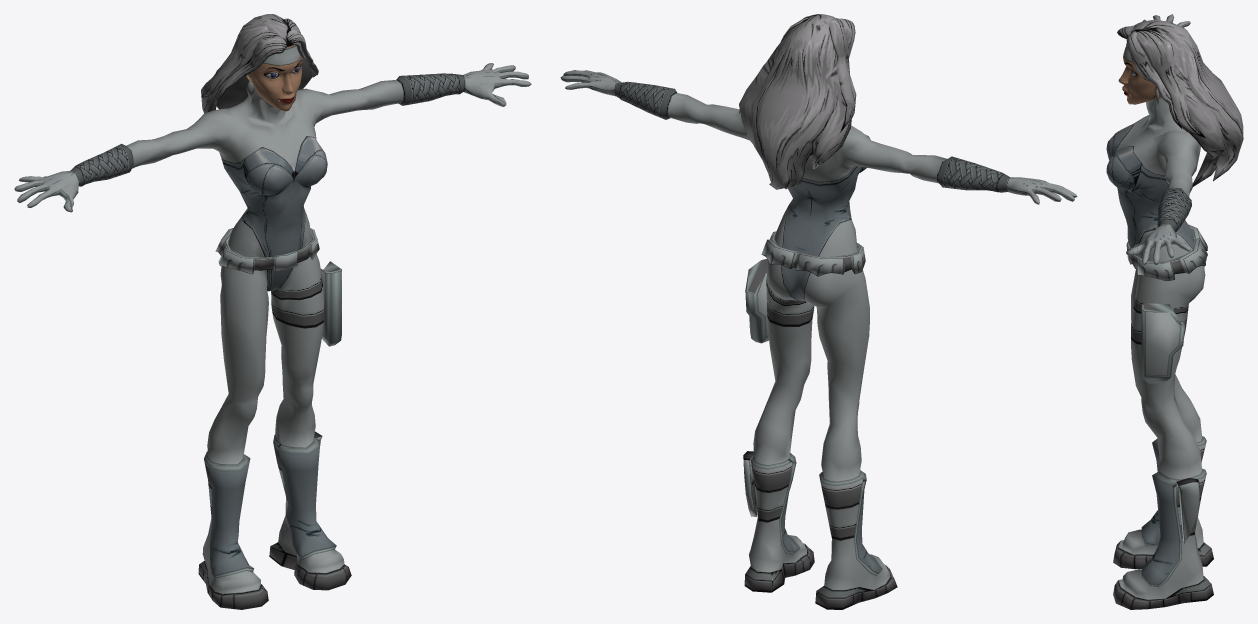
Rendered from Silver_Sable.fbx.
The picture shows the model from 3 angles, left to right: view 1: azimuth 30°, elevation 25°; view 2: azimuth 150°, elevation 25°; view 3: azimuth 270°, elevation 25°; orthographic projection.
Parts seen in each view (by area): view 1: Silver Sable; view 2: Silver Sable; view 3: Silver Sable.
Boxes of the visible parts, left/top/right/bottom form: Silver Sable: left=14, top=14, right=531, bottom=609; Silver Sable: left=560, top=14, right=1077, bottom=609; Silver Sable: left=1106, top=14, right=1243, bottom=609.
Size of the model in its own units: 180 by 190 by 42.36.
Materials: 2 (2 with a texture image).
